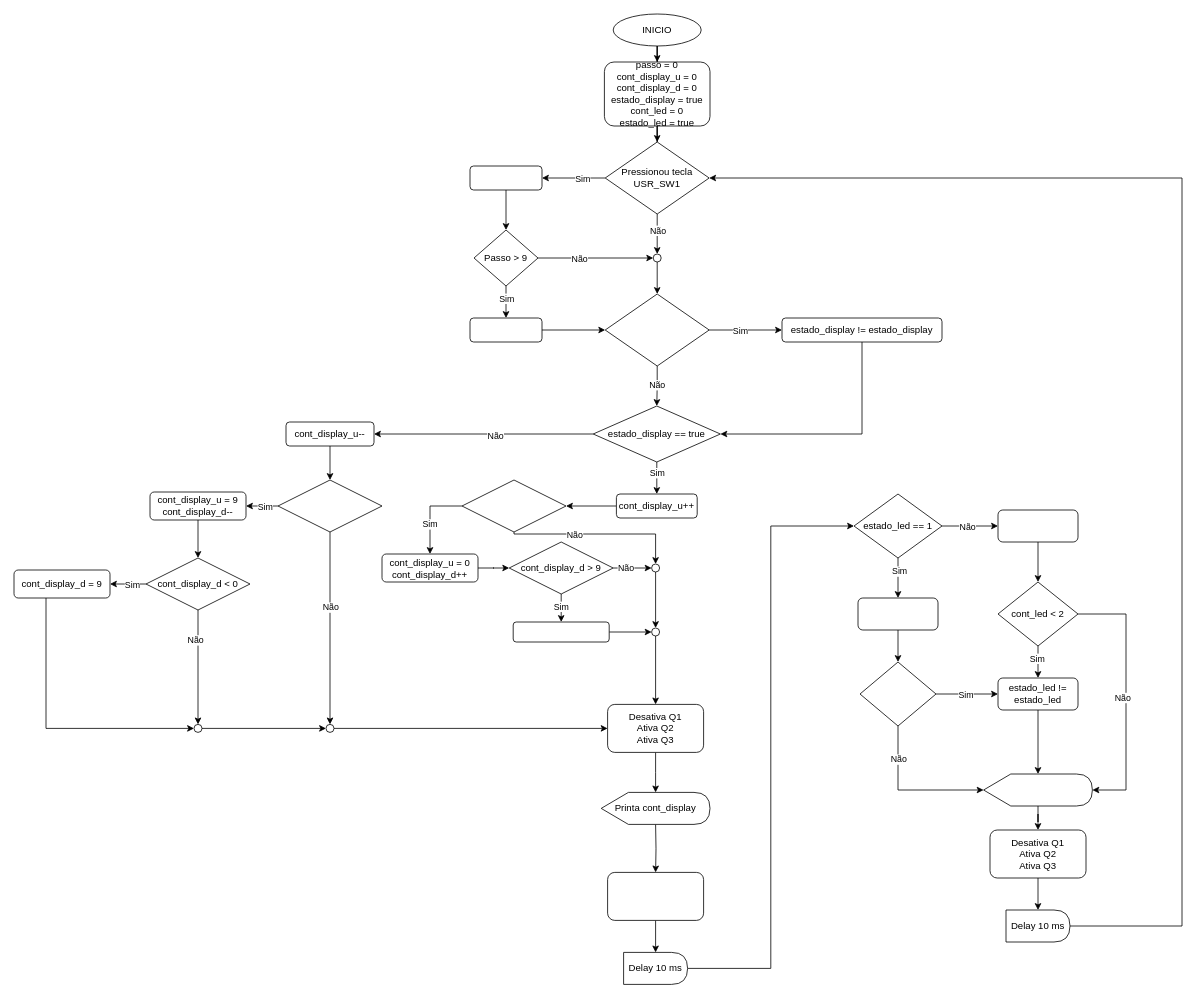
This 1202x998 diagram has some shape labels left out. Here are the shapes that lost their labels. From the top down, the centre of each, then its label:
At pixel 505 177: "passo++".
At pixel 505 329: "passo = 1".
At pixel 656 329: "Pressionou tecla USR_SW2".
At pixel 329 505: "cont_display_u < 0".
At pixel 513 505: "cont_display_u > 9".
At pixel 1037 525: "cont_led--".
At pixel 560 631: "cont_display_d = 0".
At pixel 897 613: "cont_led++".
At pixel 897 693: "cont_led > 3".
At pixel 1037 789: "Printa cont_led".
At pixel 655 896: "Ativa Q1 Desativa Q2 Desativa Q3".
